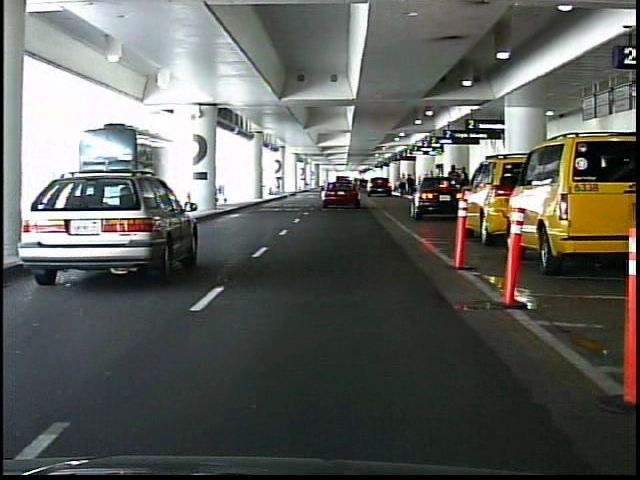person: (447, 162, 464, 211), (458, 166, 474, 209), (399, 173, 408, 196), (407, 173, 414, 196)
